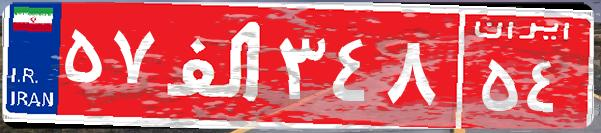3: (273, 28, 330, 110)
4: (330, 28, 385, 110), (525, 38, 570, 115)
5: (57, 26, 110, 107), (475, 38, 525, 113)
7: (110, 28, 158, 105)
8: (385, 28, 445, 110)
الف: (158, 15, 273, 115)
